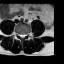CCS_normal: (21, 32, 23, 41)
LFS_normal: (25, 31, 27, 38)
LLS_normal: (23, 31, 25, 39)
RFS_normal: (17, 30, 19, 38)
RLS_normal: (19, 32, 21, 40)
